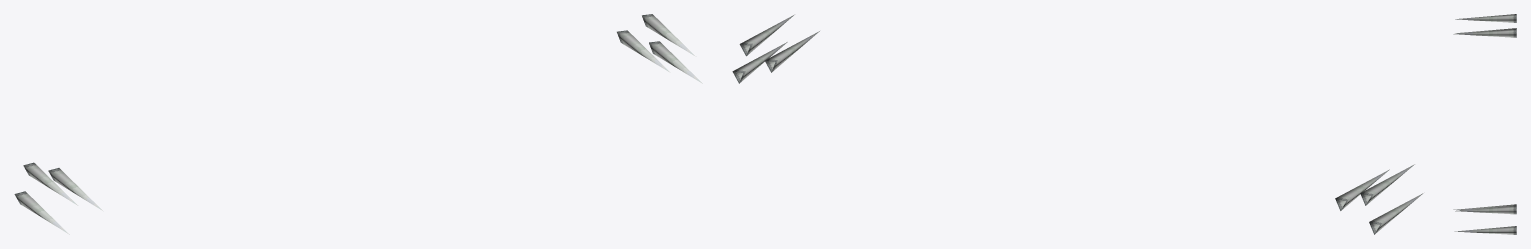
Rendered from hutt_fighter_light_weapon_s04_l3.fbx.
3 renders of one model, left to right at view 1: azimuth 30°, elevation 25°; view 2: azimuth 150°, elevation 25°; view 3: azimuth 270°, elevation 25°, orthographic. The views are drawn at different scales.
Visible parts, largest first — view 1: mesh_node; view 2: mesh_node; view 3: mesh_node.
Boxes of the visible parts, x1,y1,x2,y2 form: mesh_node: [14, 14, 702, 234]; mesh_node: [732, 14, 1423, 234]; mesh_node: [1453, 14, 1516, 234].
Size of the model in its own units: 3.49 by 0.2177 by 0.4688.
1 material, 1 textured.
